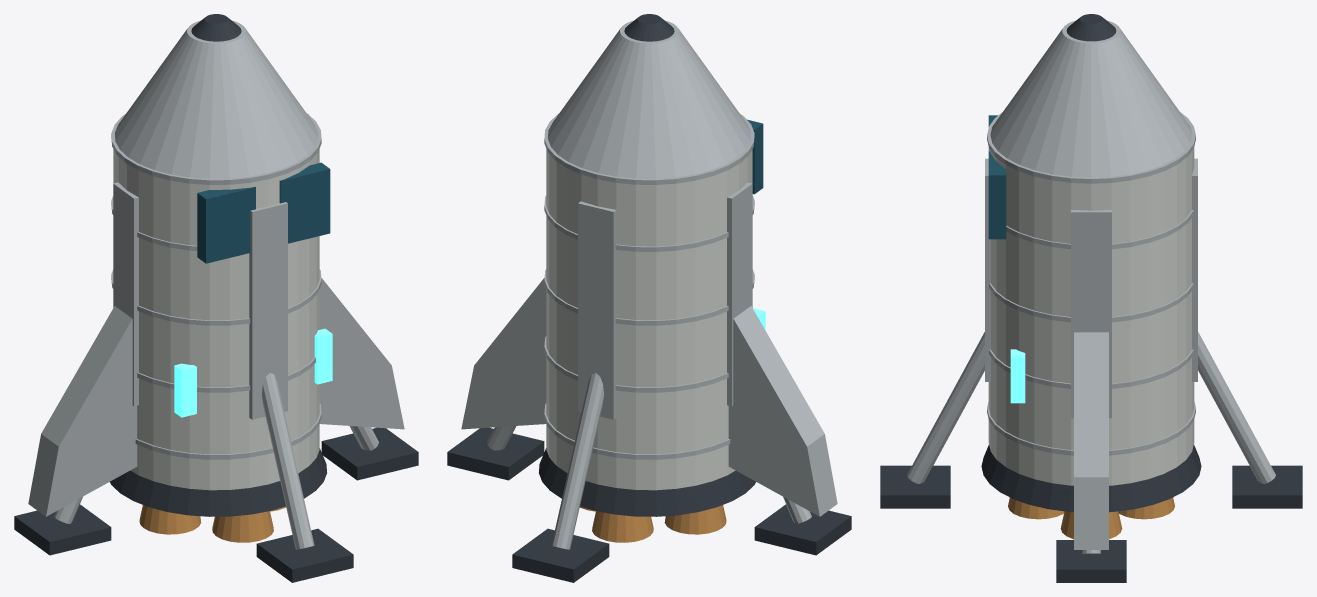
The model's file is lander.glb.
3 views of the same model, side by side, from view 1: azimuth 30°, elevation 25°; view 2: azimuth 150°, elevation 25°; view 3: azimuth 270°, elevation 25° (orthographic).
Parts seen in each view (by area): view 1: Main pressure hull, Tapered nose, Stabilizer fin, Stabilizer fin.001, Hull armor panel.003, Engine skirt, Front cockpit, Hull armor panel.002, Landing strut.003, Front cockpit.001, Landing foot.003, Landing foot (+10 smaller); view 2: Main pressure hull, Tapered nose, Stabilizer fin, Stabilizer fin.001, Hull armor panel.001, Engine skirt, Hull armor panel.002, Landing strut.001, Landing foot.001, Landing foot, Landing foot.002, Hull seam.004 (+8 smaller); view 3: Main pressure hull, Tapered nose, Stabilizer fin.001, Hull armor panel, Engine skirt, Landing strut.001, Landing strut.003, Landing foot.001, Landing foot.003, Landing foot, Hull seam.004, Front cockpit.001 (+11 smaller).
Boxes of the visible parts, <box> form: Main pressure hull: <box>113,149,319,490</box>; Tapered nose: <box>114,20,318,178</box>; Stabilizer fin: <box>28,306,137,516</box>; Stabilizer fin.001: <box>319,278,404,429</box>; Hull armor panel.003: <box>249,202,287,419</box>; Engine skirt: <box>110,448,326,516</box>; Front cockpit: <box>197,186,255,263</box>; Hull armor panel.002: <box>113,182,138,406</box>; Landing strut.003: <box>261,373,314,549</box>; Front cockpit.001: <box>279,162,330,243</box>; Landing foot.003: <box>256,528,353,582</box>; Landing foot: <box>321,427,418,480</box>; Main pressure hull: <box>546,149,752,490</box>; Tapered nose: <box>547,20,751,178</box>; Stabilizer fin: <box>728,306,837,516</box>; Stabilizer fin.001: <box>461,278,546,429</box>; Hull armor panel.001: <box>578,201,616,419</box>; Engine skirt: <box>539,448,755,516</box>; Hull armor panel.002: <box>727,182,752,406</box>; Landing strut.001: <box>551,373,604,549</box>; Landing foot.001: <box>512,528,609,582</box>; Landing foot: <box>447,427,544,480</box>; Landing foot.002: <box>754,504,851,555</box>; Hull seam.004: <box>544,113,754,184</box>; Main pressure hull: <box>988,147,1194,485</box>; Tapered nose: <box>990,20,1192,177</box>; Stabilizer fin.001: <box>1074,332,1108,549</box>; Hull armor panel: <box>1071,209,1111,418</box>; Engine skirt: <box>981,445,1201,512</box>; Landing strut.001: <box>1198,332,1275,483</box>; Landing strut.003: <box>907,332,984,483</box>; Landing foot.001: <box>1232,465,1302,508</box>; Landing foot.003: <box>880,465,950,508</box>; Landing foot: <box>1056,540,1126,582</box>; Hull seam.004: <box>987,112,1195,183</box>; Front cockpit.001: <box>988,151,1006,239</box>.
Size of the model in its own units: 2.88 by 3.69 by 2.88.
